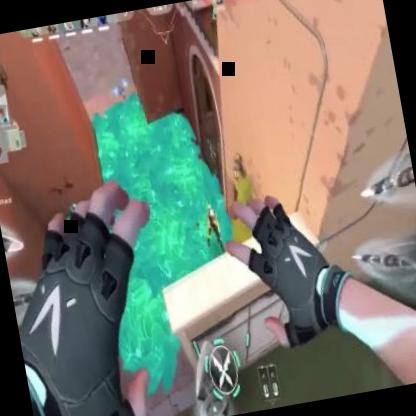enemy: (198, 201, 228, 260)
enemy_head: (208, 207, 216, 220)
